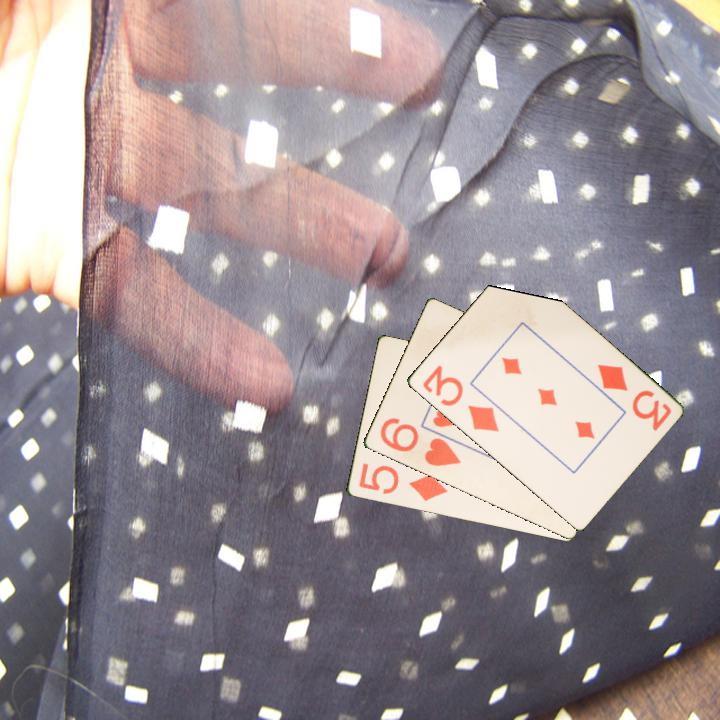3d: (419, 361, 502, 435), (593, 360, 674, 434)
5d: (355, 460, 451, 505)
6h: (376, 414, 464, 469)
